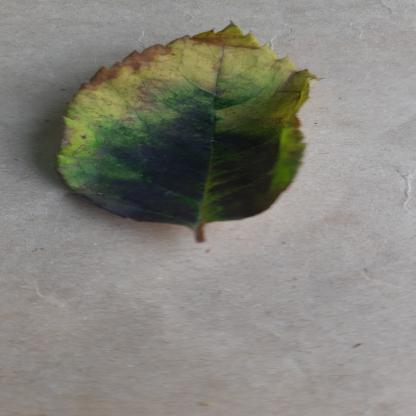downy-mildew: (47, 19, 336, 228)
